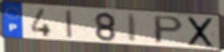4: (29, 7, 53, 38)
8: (93, 11, 117, 43)
I: (127, 13, 139, 44), (65, 9, 74, 40)
P: (153, 15, 185, 45)
X: (187, 16, 215, 49)
